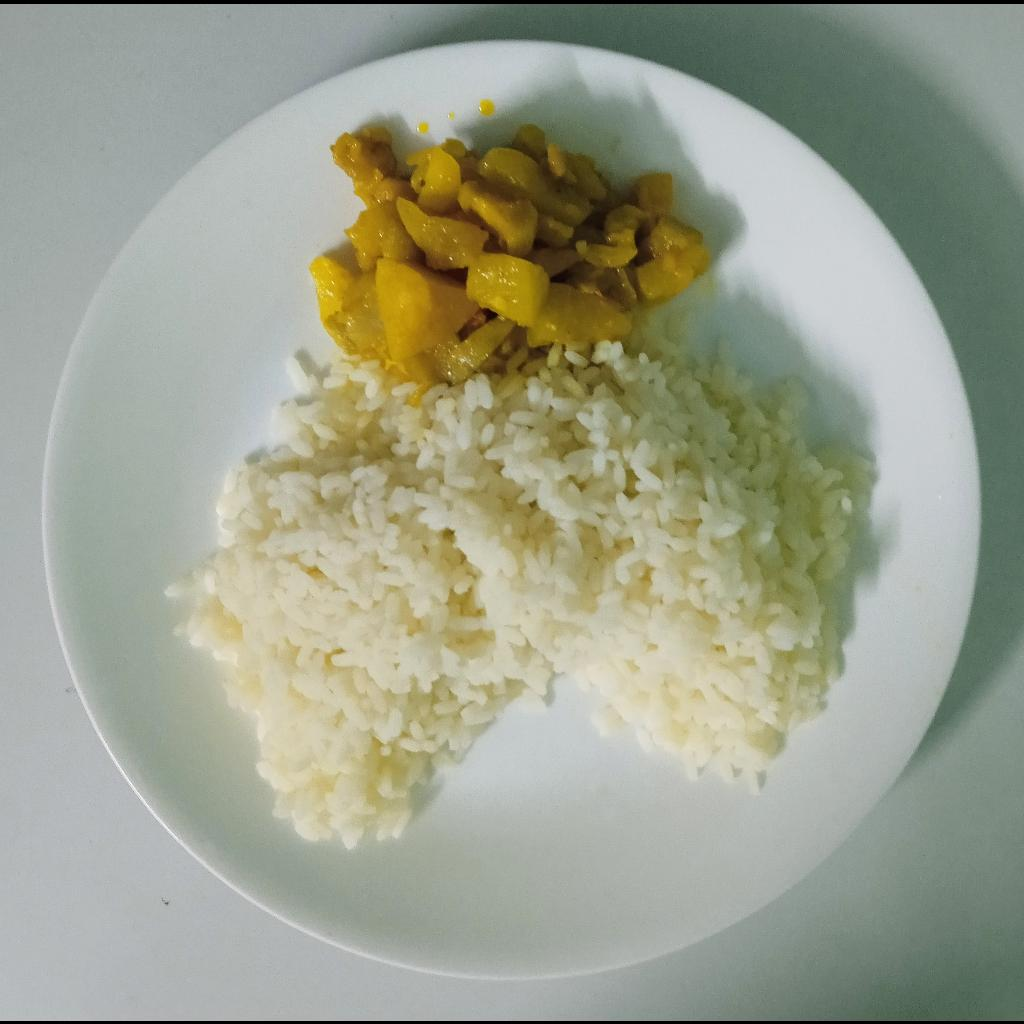lau: (312, 117, 718, 376)
rice: (145, 310, 876, 860)
